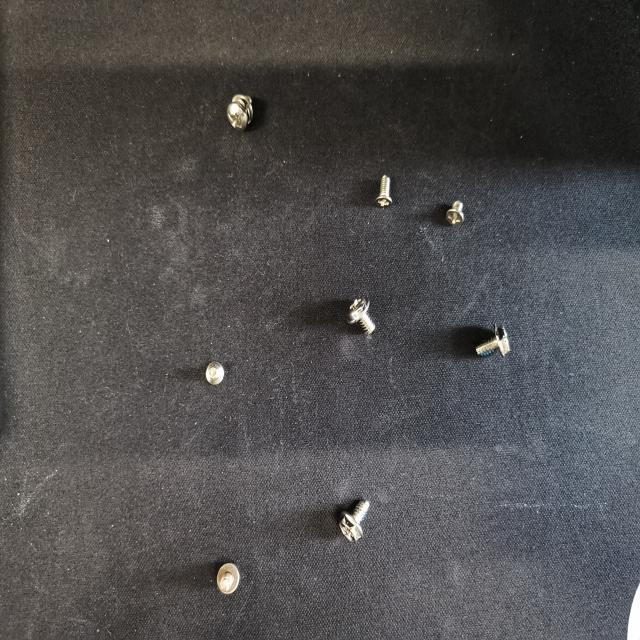Screw: (338, 496, 372, 546), (345, 294, 378, 338), (474, 322, 512, 359), (226, 92, 256, 133), (213, 559, 242, 597), (374, 172, 394, 213), (202, 359, 226, 387), (444, 198, 466, 228)
